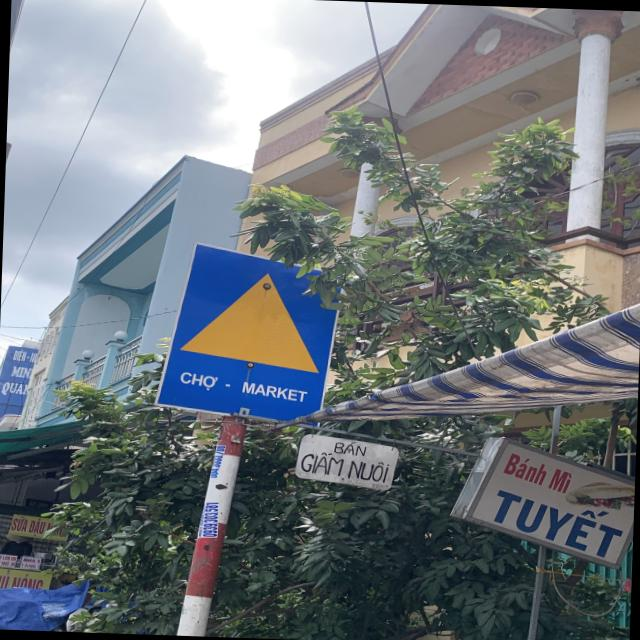Cho_Quay_Xe: (156, 238, 331, 422)
